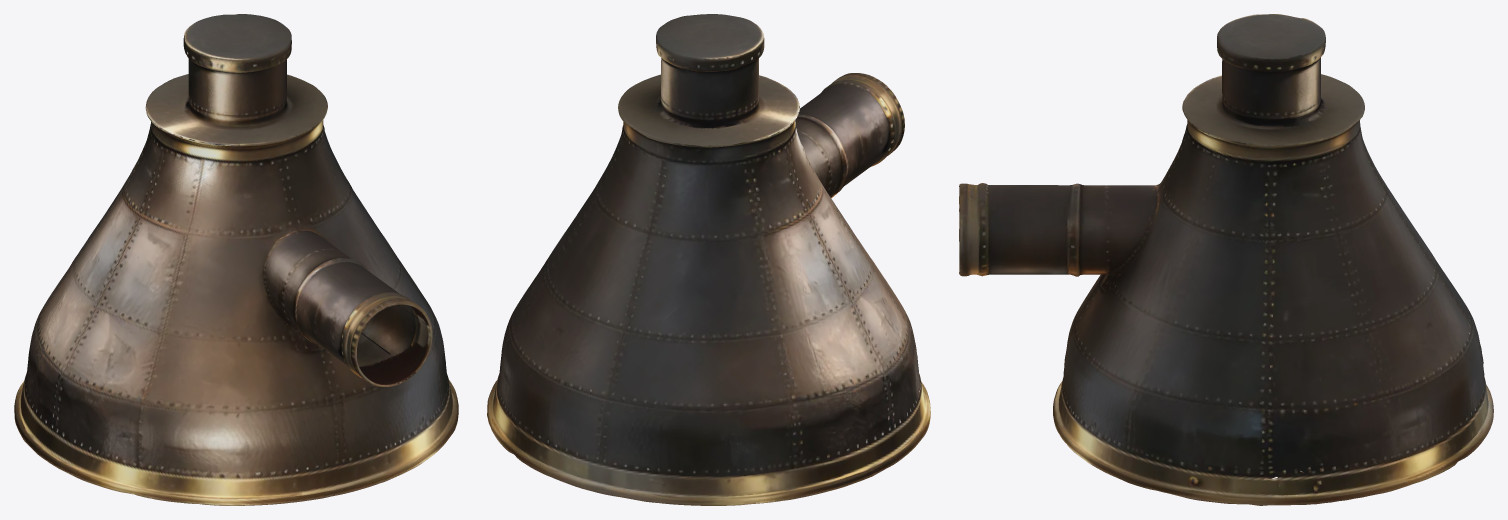
The model's file is wc-hood.glb.
3 renders of one model, left to right at view 1: azimuth 30°, elevation 25°; view 2: azimuth 150°, elevation 25°; view 3: azimuth 270°, elevation 25°, orthographic.
Visible parts, largest first — view 1: model; view 2: model; view 3: model.
Boxes of the visible parts, box(x1,y1,x2,y2) form: model: box(14, 14, 458, 505); model: box(487, 14, 930, 505); model: box(959, 14, 1493, 505).
Size of the model in its own units: 1.58 by 1.48 by 1.9.
1 material, 1 textured.
